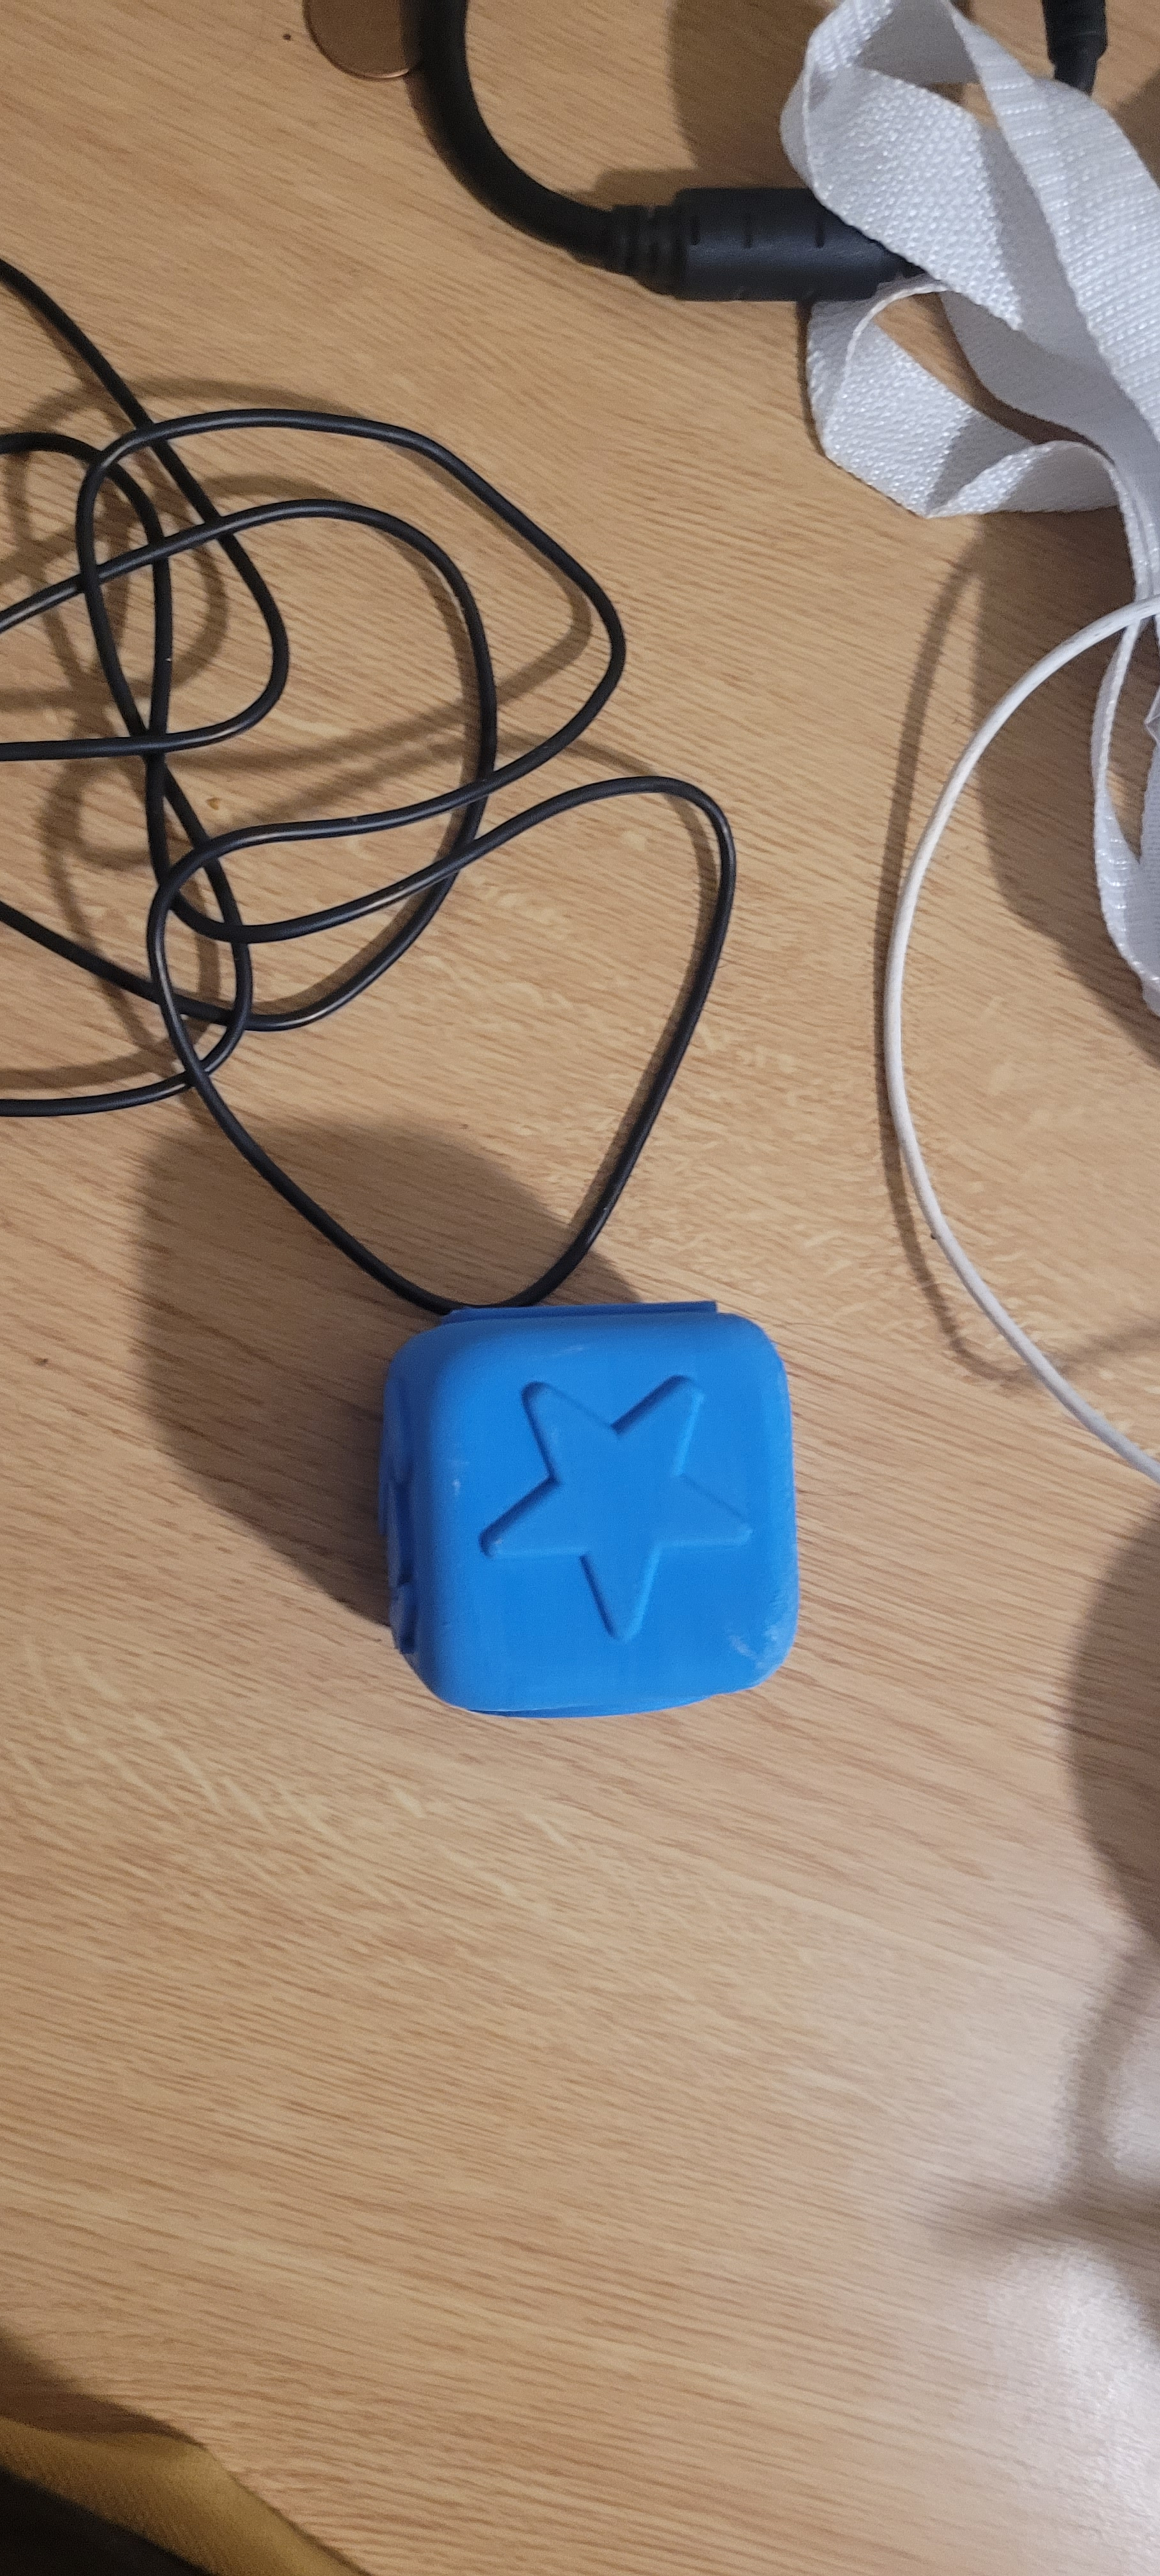Star: (470, 1344, 818, 1653)
